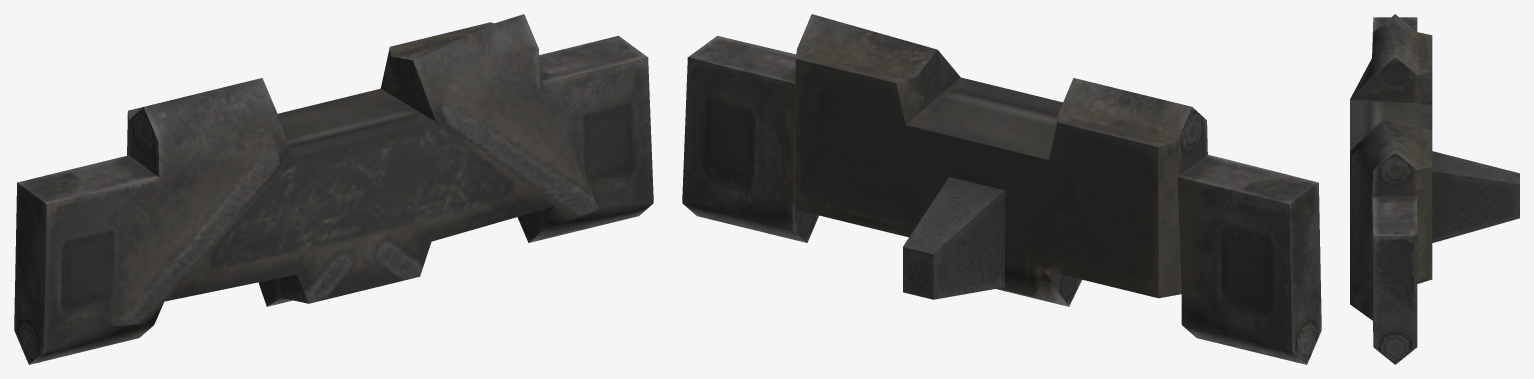
3 renders of one model, left to right at view 1: azimuth 30°, elevation 25°; view 2: azimuth 150°, elevation 25°; view 3: azimuth 270°, elevation 25°, orthographic. The views are drawn at different scales.
Parts seen in each view (by area): view 1: set_0_group_0; view 2: set_0_group_0; view 3: set_0_group_0.
Boxes of the visible parts, x1,y1,x2,y2 form: set_0_group_0: [14, 14, 653, 364]; set_0_group_0: [682, 14, 1321, 364]; set_0_group_0: [1350, 14, 1519, 364].
Size of the model in its own units: 0.533 by 0.1921 by 0.1728.
Materials: 1 (1 with a texture image).
